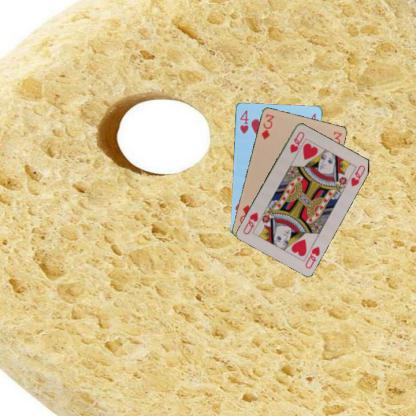3d: (258, 111, 276, 140)
4h: (237, 108, 249, 134)
Qh: (302, 244, 321, 270), (287, 129, 306, 154)
